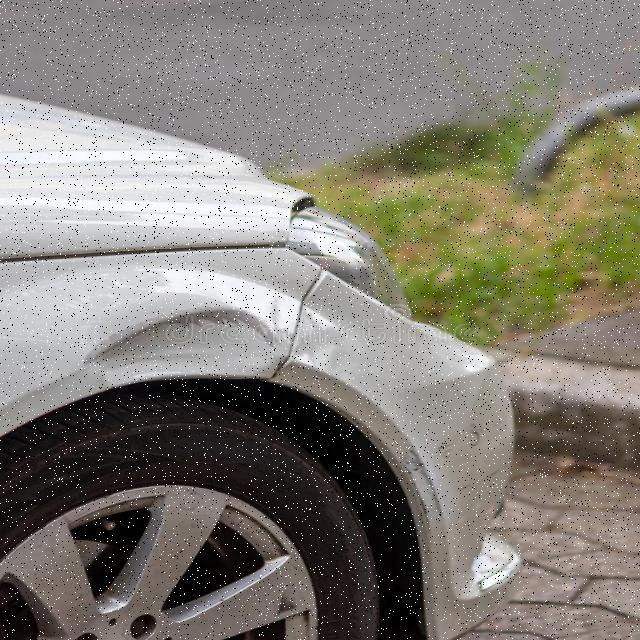fender-dent: (0, 243, 299, 528)
front-bumper-dent: (300, 278, 544, 634)
